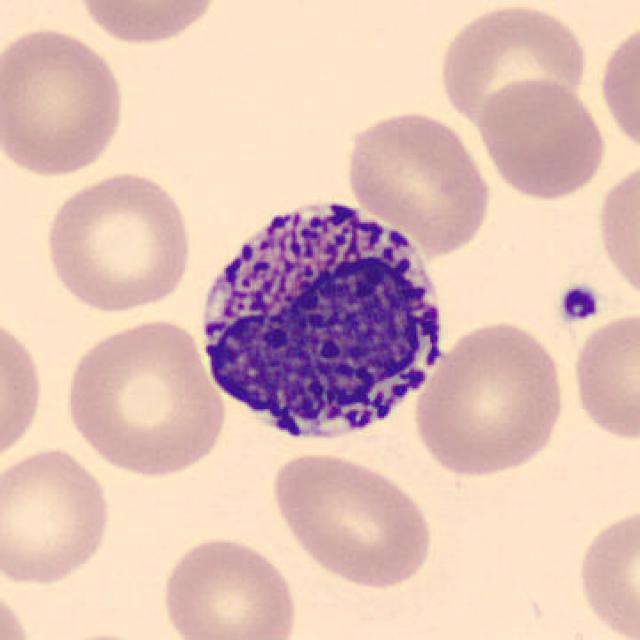Basophil: (185, 184, 460, 458)
Platelets: (553, 279, 603, 328)
RBC: (59, 314, 229, 479), (409, 316, 571, 481), (267, 448, 437, 590), (39, 168, 196, 318), (342, 106, 494, 257), (0, 23, 130, 180), (434, 2, 592, 130), (473, 74, 610, 203), (0, 444, 116, 589), (156, 532, 302, 640), (567, 308, 640, 444), (572, 502, 638, 640), (0, 308, 48, 471), (71, 0, 224, 48), (594, 154, 638, 310), (596, 14, 638, 162), (0, 582, 36, 640), (39, 627, 179, 640)
